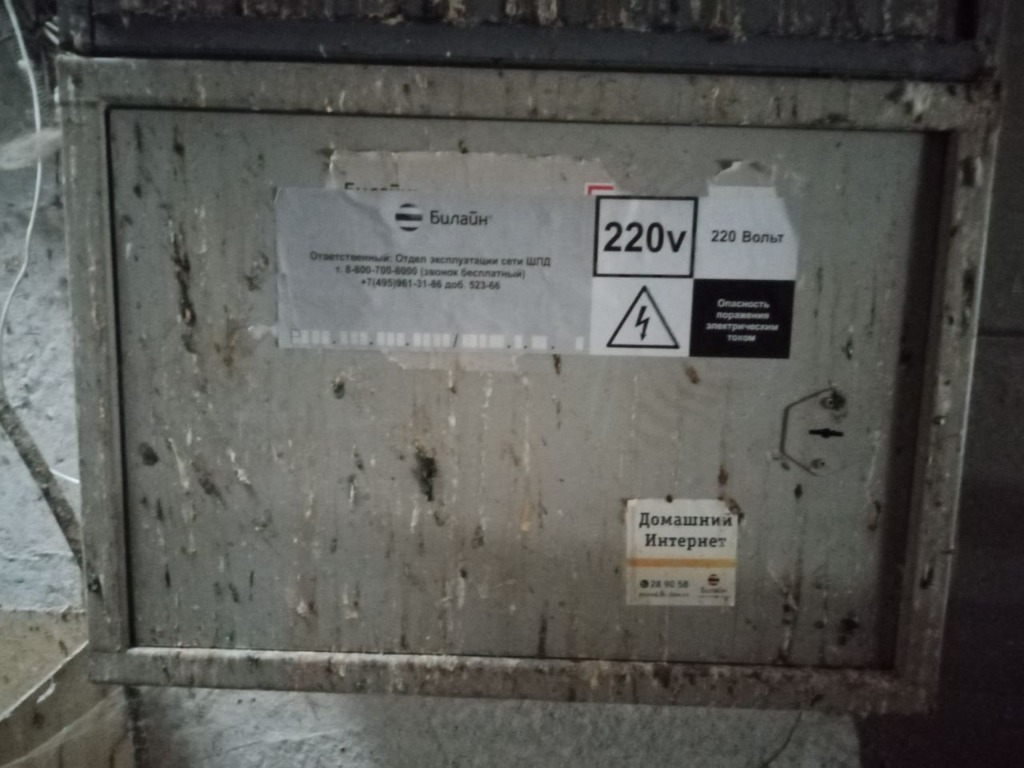e2-6u: (49, 46, 1003, 724)
